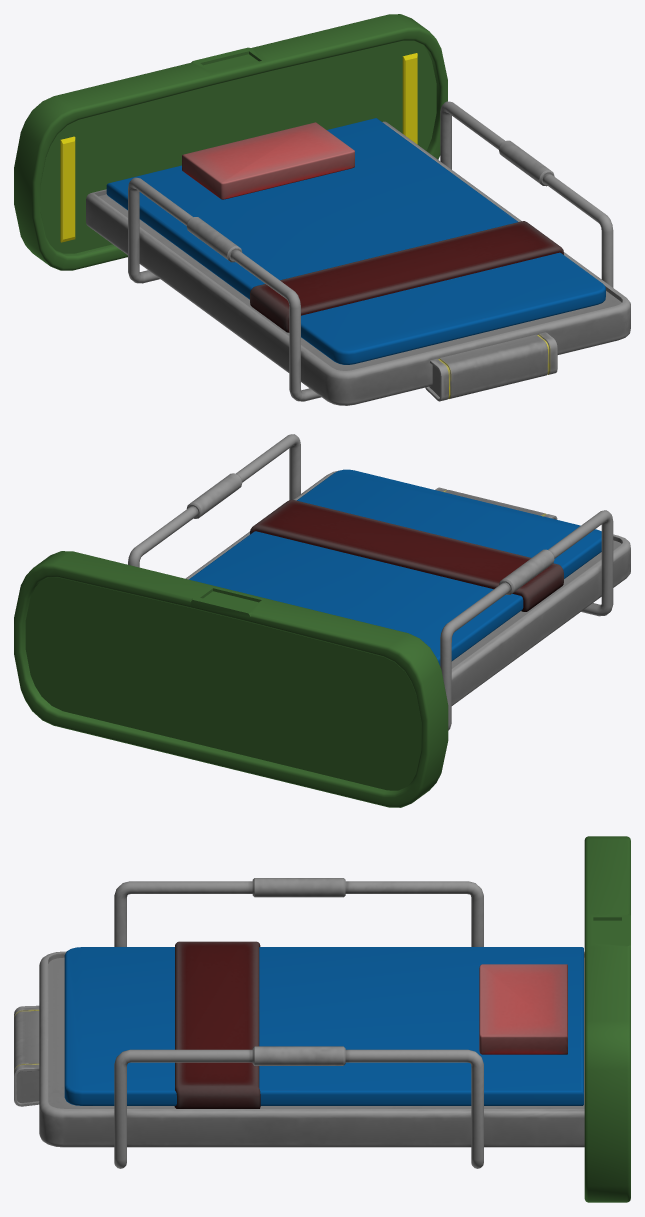
File: Bed.fbx
3 views of the same model, one above another, from view 1: azimuth 30°, elevation 25°; view 2: azimuth 150°, elevation 25°; view 3: azimuth 270°, elevation 25° (orthographic). The views are drawn at different scales.
Visible parts, largest first — view 1: Bed; view 2: Bed; view 3: Bed.
Boxes of the visible parts, left/top/right/bottom form: Bed: left=14, top=14, right=630, bottom=405; Bed: left=14, top=434, right=630, bottom=807; Bed: left=14, top=836, right=630, bottom=1202.
Bounding box in the file's own units: 230 × 85.28 × 268.
